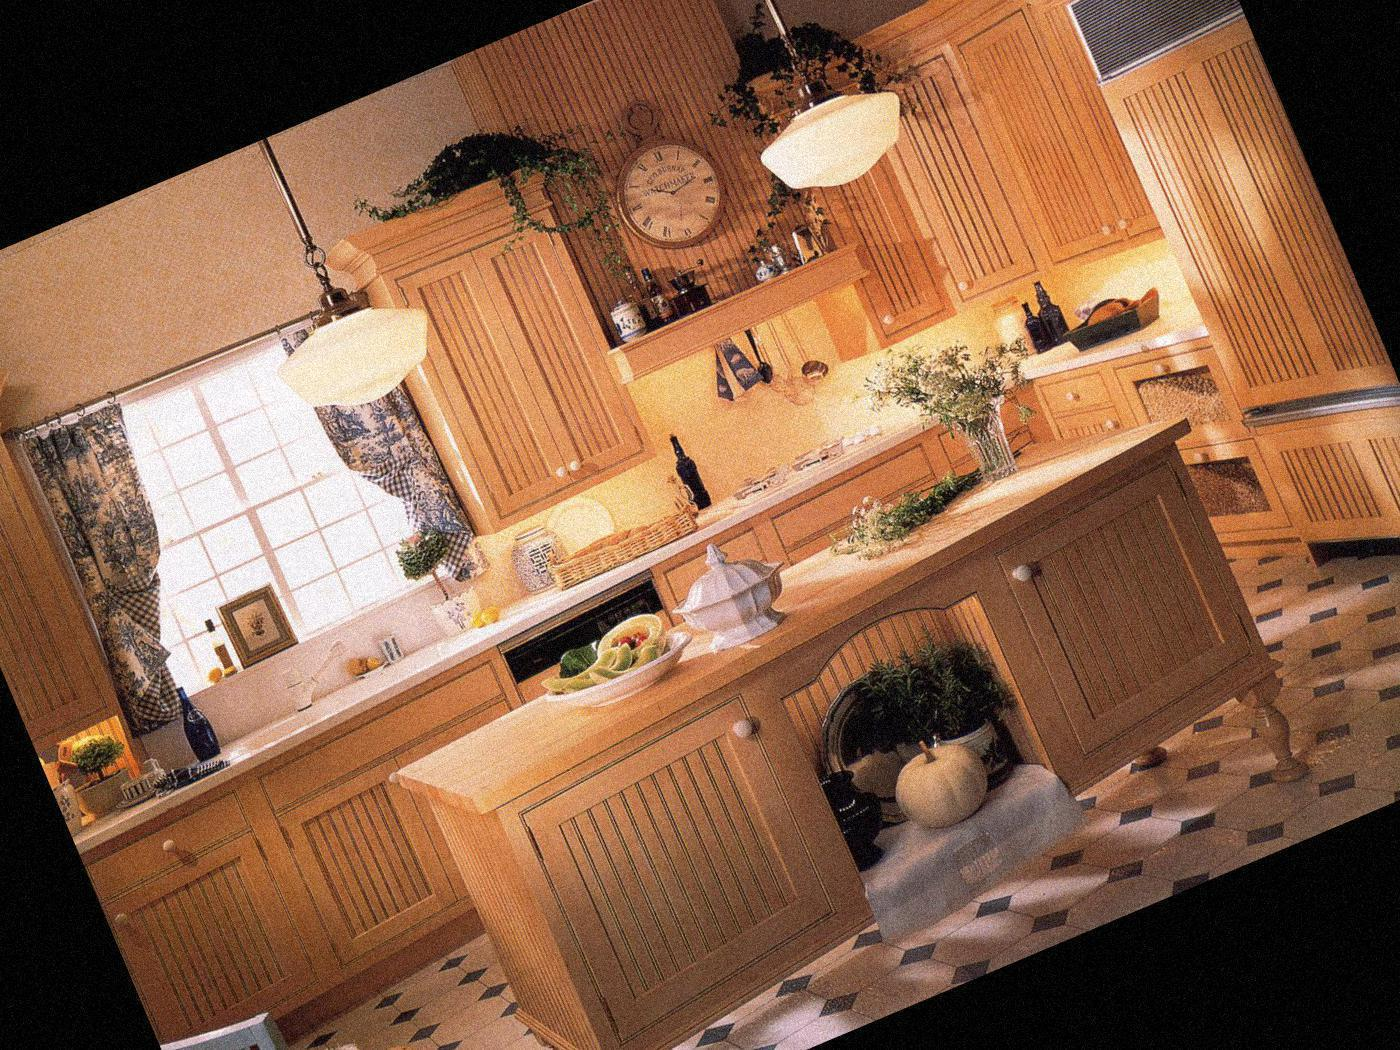Armario: (1056, 0, 1400, 598)
Lavaplatos: (193, 570, 517, 776)
